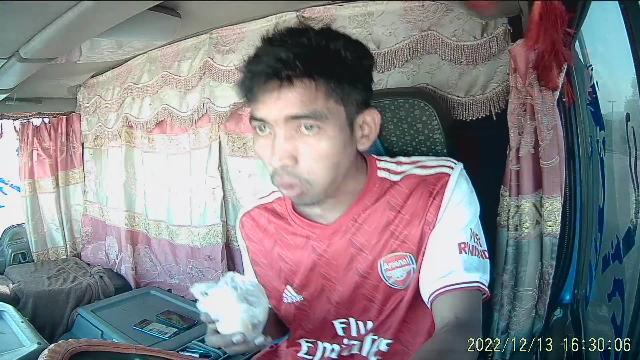PhoneUse: (132, 316, 180, 340)
SafeDriving: (289, 114, 327, 138), (247, 115, 277, 139)
